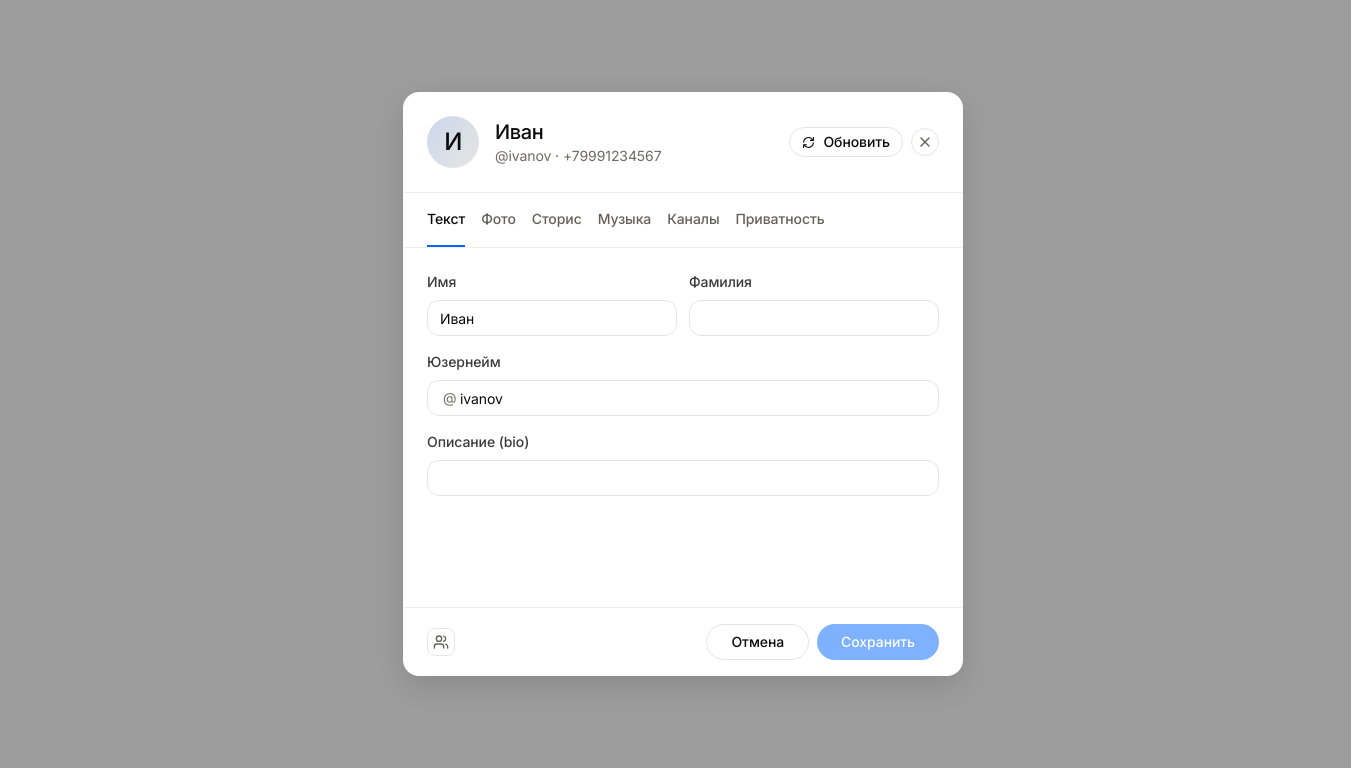
a late snapshot does not clobber user edits
Replace the text in the field showing "Иван" with "Мой": x=552, y=318 [427,300,677,336]
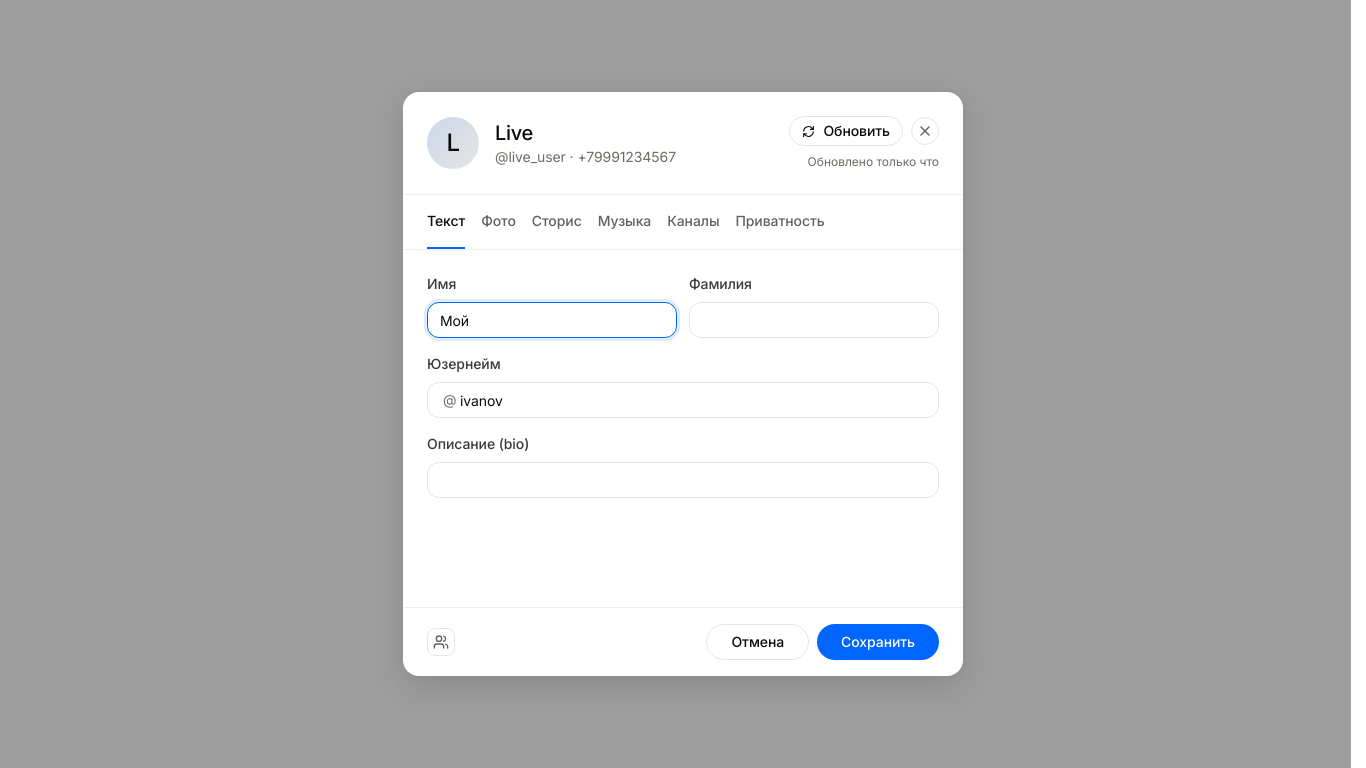
Expected: the heading "Live" is shown, [495,121,533,145]
